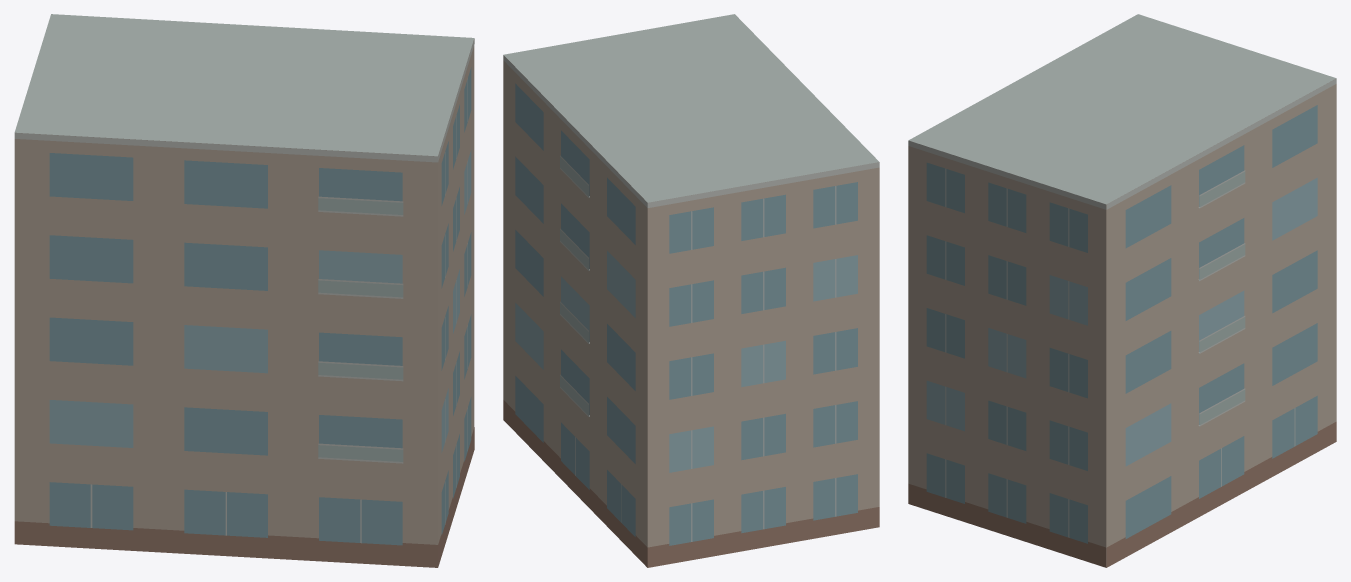
The model's file is survey-upis-32975175.glb.
3 renders of one model, left to right at view 1: azimuth 30°, elevation 25°; view 2: azimuth 150°, elevation 25°; view 3: azimuth 270°, elevation 25°, orthographic. The views are drawn at different scales.
Visible parts, largest first — view 1: survey-upis-32975175.tmp; view 2: survey-upis-32975175.tmp; view 3: survey-upis-32975175.tmp.
Part boxes in pixels (x1,y1,x2,y2): survey-upis-32975175.tmp: [14, 14, 474, 567]; survey-upis-32975175.tmp: [503, 14, 879, 567]; survey-upis-32975175.tmp: [908, 14, 1336, 567].
Size of the model in its own units: 18.33 by 16.3 by 17.42.
